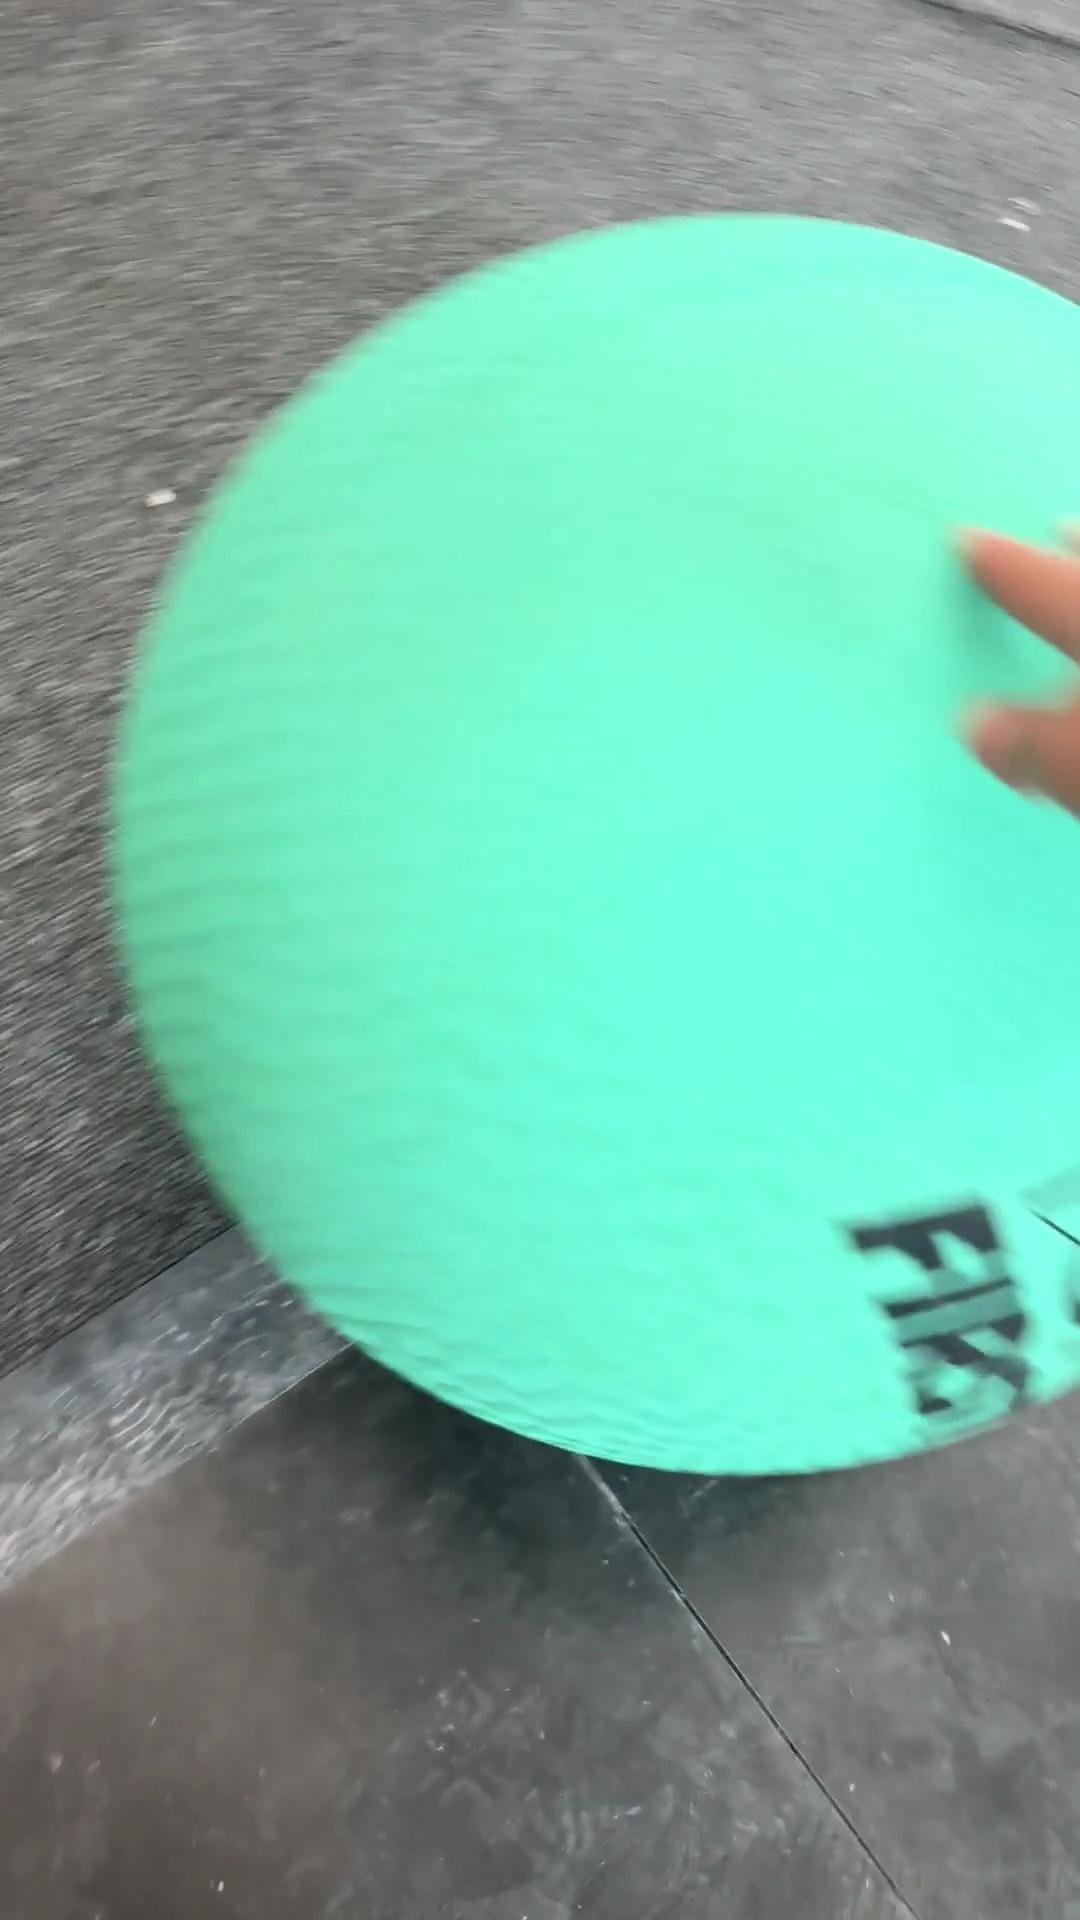ALGAE: (104, 208, 1077, 1480)
